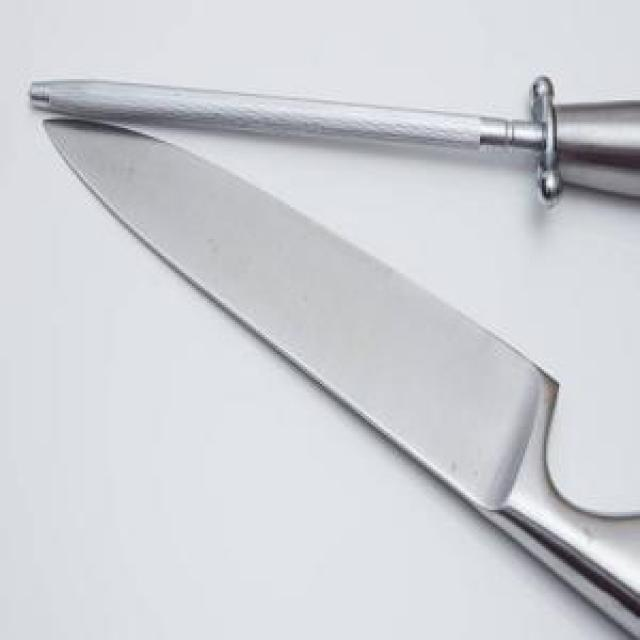knife: (32, 111, 638, 638)
